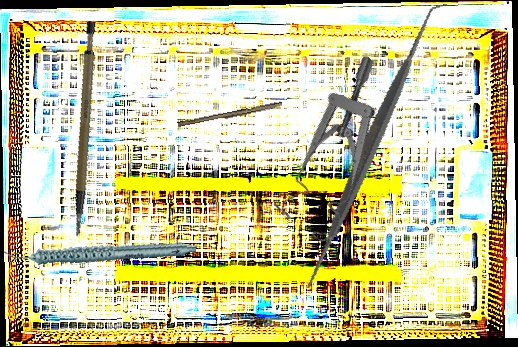Handpiece: (2, 208, 198, 295)
Scalpel Handle: (40, 20, 125, 239), (177, 100, 283, 130)
Spatula Surgical: (229, 3, 512, 292)
Speculum: (246, 53, 440, 252)
